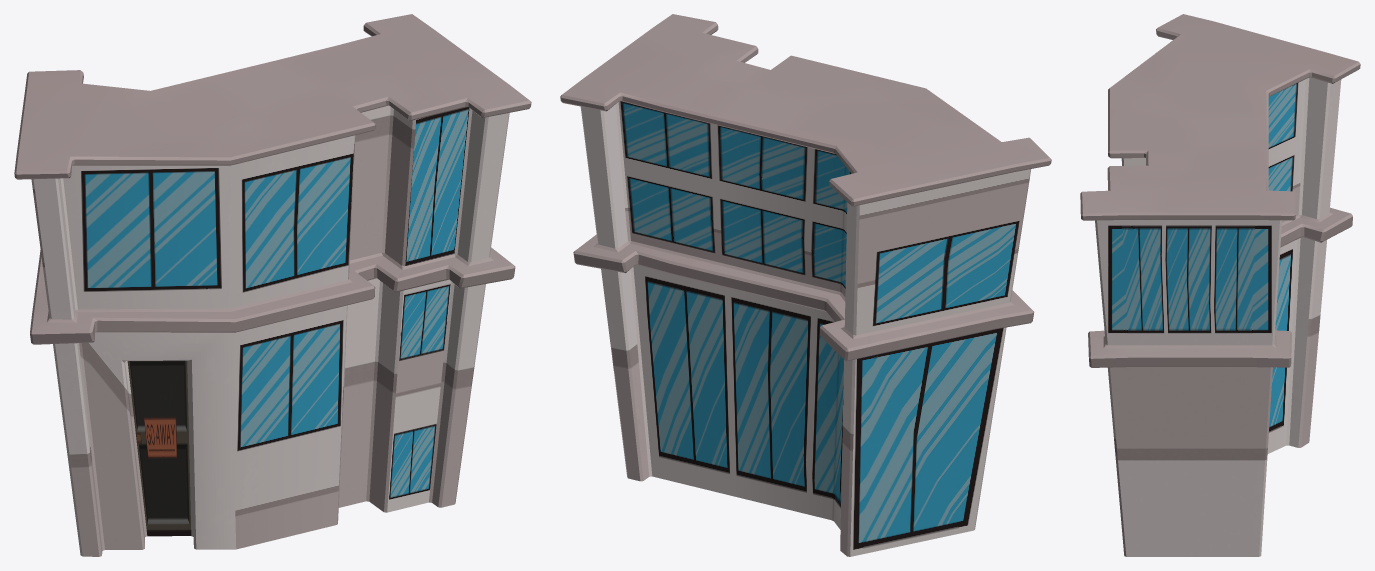
The model's file is BuildingBig.fbx.
3 renders of one model, left to right at view 1: azimuth 30°, elevation 25°; view 2: azimuth 150°, elevation 25°; view 3: azimuth 270°, elevation 25°, orthographic. The views are drawn at different scales.
Parts seen in each view (by area): view 1: Cube; view 2: Cube; view 3: Cube.
Boxes of the visible parts, box(x1,y1,x2,y2) form: Cube: box(14, 14, 531, 556); Cube: box(560, 14, 1051, 556); Cube: box(1080, 14, 1360, 556).
Bounding box in the file's own units: 54.87 × 46.85 × 32.3.
